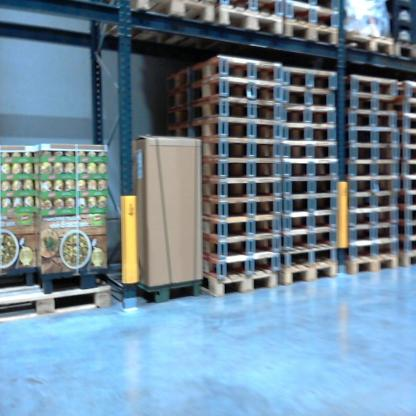pallet: (0, 275, 117, 323), (97, 3, 214, 50), (162, 56, 285, 97), (189, 8, 283, 61), (160, 115, 282, 144), (159, 97, 287, 124), (162, 81, 283, 109), (200, 210, 282, 242), (203, 247, 282, 280), (202, 132, 285, 162), (201, 191, 283, 221), (200, 266, 281, 295), (338, 26, 398, 65), (199, 230, 281, 258), (200, 156, 281, 184), (201, 175, 285, 202), (281, 13, 339, 49), (280, 257, 339, 292), (282, 100, 340, 130), (279, 232, 343, 255), (291, 66, 336, 98), (278, 246, 337, 270), (343, 89, 402, 113), (342, 74, 401, 97), (278, 161, 339, 183), (339, 126, 402, 147), (280, 211, 339, 232), (284, 1, 339, 23), (340, 162, 403, 181), (281, 195, 342, 213), (281, 84, 333, 105), (339, 108, 399, 126), (283, 143, 339, 162), (215, 1, 281, 17), (344, 256, 399, 275), (275, 181, 344, 196), (340, 146, 401, 162), (350, 241, 399, 259), (282, 128, 340, 143), (342, 195, 402, 209), (350, 209, 402, 225), (347, 225, 399, 241), (342, 181, 403, 192), (390, 42, 414, 65), (396, 237, 415, 256), (397, 173, 414, 194), (400, 129, 416, 150), (399, 206, 416, 224), (400, 111, 416, 129), (399, 80, 415, 98), (396, 224, 416, 237), (397, 162, 416, 173), (400, 256, 415, 269), (400, 98, 415, 111), (400, 150, 416, 162), (399, 194, 414, 206)
